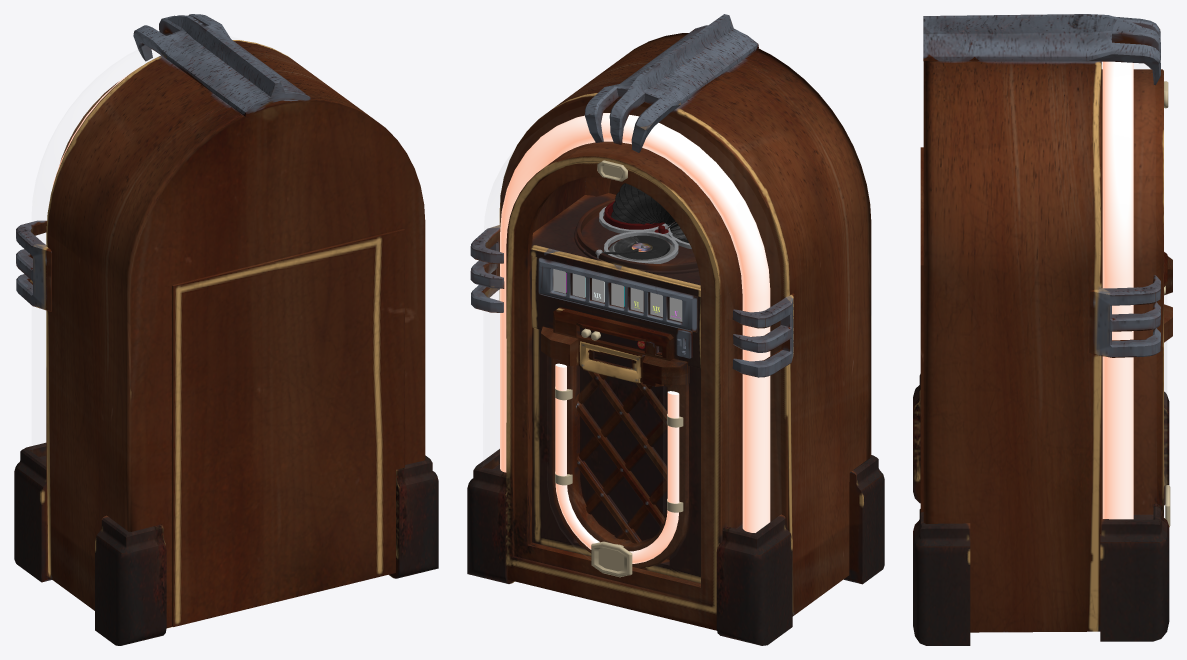
File: jukebox.glb
The picture shows the model from 3 angles, left to right: view 1: azimuth 30°, elevation 25°; view 2: azimuth 150°, elevation 25°; view 3: azimuth 270°, elevation 25°; orthographic projection. The views are drawn at different scales.
Visible parts, largest first — view 1: cabinet, casing_grip1, foot6, foot7, foot4, casing_grip2; view 2: cabinet, shelf_and_face, jukebox_modellingunwrapped:jukebox_modelling:light_1_lights_, faceplate, casing_grip1, foot4, face_panel, speaker_lattice, foot5, jukebox_modellingunwrapped:jukebox_modelling:light_2_lights_, foot6, button_panel (+7 smaller); view 3: cabinet, jukebox_modellingunwrapped:jukebox_modelling:light_1_lights_, casing_grip1, foot5, foot7, casing_grip, foot6, face_panel, foot4.
Part boxes in pixels (x1,y1,x2,y2): cabinet: [46, 40, 425, 628]; casing_grip1: [133, 14, 310, 117]; foot6: [95, 515, 166, 645]; foot7: [389, 455, 438, 578]; foot4: [14, 442, 51, 582]; casing_grip2: [16, 220, 51, 311]; cabinet: [499, 33, 871, 630]; shelf_and_face: [532, 193, 739, 583]; jukebox_modellingunwrapped:jukebox_modelling:light_1_lights_: [500, 113, 770, 532]; faceplate: [530, 244, 700, 568]; casing_grip1: [584, 14, 758, 152]; foot4: [716, 514, 792, 645]; face_panel: [541, 307, 689, 387]; speaker_lattice: [577, 371, 666, 543]; foot5: [467, 449, 514, 583]; jukebox_modellingunwrapped:jukebox_modelling:light_2_lights_: [555, 363, 679, 563]; foot6: [844, 455, 884, 584]; button_panel: [538, 257, 697, 332]; cabinet: [920, 61, 1163, 632]; jukebox_modellingunwrapped:jukebox_modelling:light_1_lights_: [1102, 61, 1133, 519]; casing_grip1: [923, 14, 1160, 85]; foot5: [1100, 503, 1169, 641]; foot7: [913, 509, 970, 645]; casing_grip: [1089, 275, 1160, 357]; foot6: [913, 374, 920, 503]; face_panel: [1164, 252, 1172, 342]; foot4: [1164, 391, 1169, 505].
Size of the model in its own units: 1.24 by 1.94 by 0.8301.
14 materials, 5 textured.
